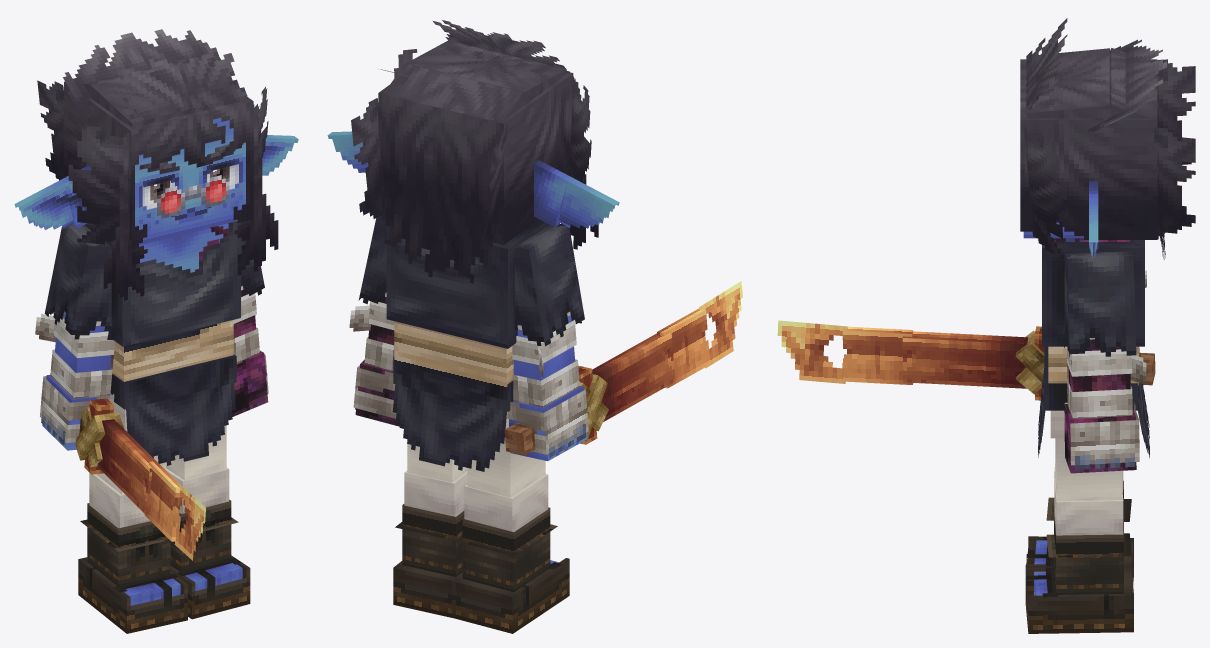
The picture shows the model from 3 angles, left to right: view 1: azimuth 30°, elevation 25°; view 2: azimuth 150°, elevation 25°; view 3: azimuth 270°, elevation 25°; orthographic projection. The views are drawn at different scales.
Parts seen in each view (by area): view 1: Tshirt1.mesh, HairBase.mesh, Sleeve1.mesh (×2), Front_Cloth_1.mesh, SideStrand.mesh (×2), FrontStrand.mesh, Face.mesh, SideStrand2.mesh (×2), R-Boot3.mesh, Tshirt2.mesh, R-Boot.mesh, BackStrand.mesh (+28 smaller); view 2: HairBase.mesh, Tshirt1.mesh, Sleeve1.mesh (×2), Back_Cloth_1.mesh, Tshirt2.mesh, BackLong.mesh, R-Boot3.mesh, R-Boot.mesh, Top--C1.mesh, Back.mesh, HeldItem.Blade.mesh, L-Boot3.mesh (+23 smaller); view 3: HairBase.mesh, Sleeve1.mesh, HeldItem.Blade.mesh, BackStrand2.mesh (×2), L-Boot.mesh, Top--C1.mesh, L-Boot3.mesh, Tshirt1.mesh, HeldItem.Blade2.mesh, SideStrand2.mesh, L-Glove2.mesh, L-Glove.mesh (+12 smaller).
Part boxes in pixels (x1,y1,x2,y2): Tshirt1.mesh: (84, 221, 240, 346); HairBase.mesh: (63, 81, 253, 248); Sleeve1.mesh (×2): (44, 221, 264, 339); Front_Cloth_1.mesh: (126, 383, 235, 465); SideStrand.mesh (×2): (103, 104, 278, 300); FrontStrand.mesh: (116, 47, 246, 122); Face.mesh: (135, 117, 245, 244); SideStrand2.mesh (×2): (68, 87, 268, 244); R-Boot3.mesh: (87, 503, 170, 586); Tshirt2.mesh: (112, 320, 233, 381); R-Boot.mesh: (78, 557, 187, 633); BackStrand.mesh: (63, 29, 220, 115); HairBase.mesh: (378, 72, 573, 244); Tshirt1.mesh: (386, 219, 559, 348); Sleeve1.mesh (×2): (358, 215, 584, 346); Back_Cloth_1.mesh: (392, 384, 506, 471); Tshirt2.mesh: (394, 321, 513, 400); BackLong.mesh: (381, 196, 501, 283); R-Boot3.mesh: (462, 507, 550, 592); R-Boot.mesh: (453, 558, 569, 633); Top--C1.mesh: (406, 40, 566, 105); Back.mesh: (385, 63, 525, 120); HeldItem.Blade.mesh: (592, 333, 675, 421); L-Boot3.mesh: (402, 504, 464, 576); HairBase.mesh: (1020, 59, 1157, 239); Sleeve1.mesh: (1064, 251, 1136, 356); HeldItem.Blade.mesh: (902, 331, 1028, 388); BackStrand2.mesh (×2): (1154, 59, 1195, 239); L-Boot.mesh: (1025, 567, 1133, 633); Top--C1.mesh: (1026, 48, 1110, 118); L-Boot3.mesh: (1054, 510, 1123, 594); Tshirt1.mesh: (1042, 240, 1144, 346); HeldItem.Blade2.mesh: (842, 326, 913, 384); SideStrand2.mesh: (1024, 127, 1066, 258); L-Glove2.mesh: (1067, 346, 1132, 418); L-Glove.mesh: (1064, 402, 1139, 469).
Bounding box in the file's own units: 4.4 × 8.26 × 5.62.
Materials: 2 (2 with a texture image).
